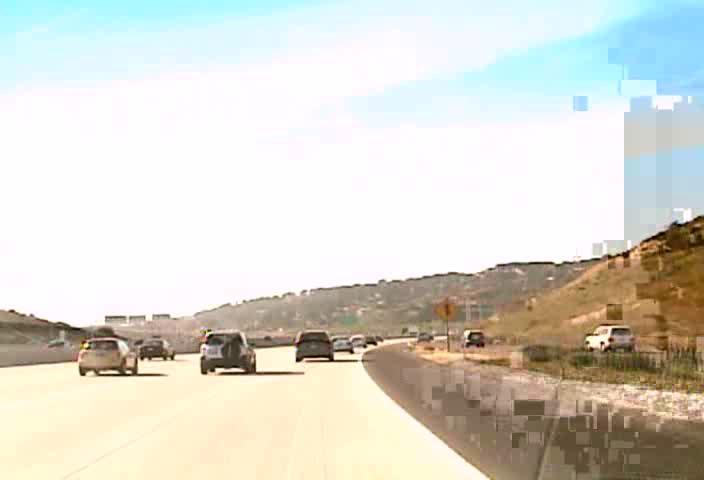merge: (433, 296, 459, 321)
